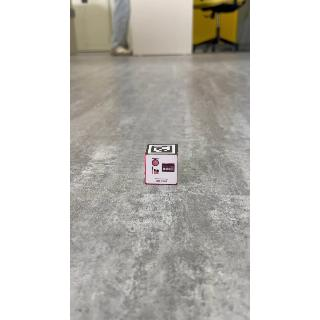Expired_Cosmetic: (146, 155, 180, 188)
